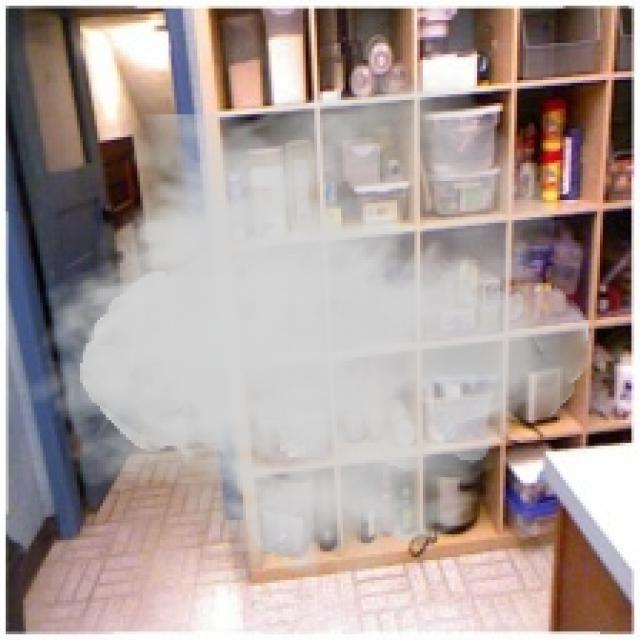smoke: (23, 68, 591, 583)
